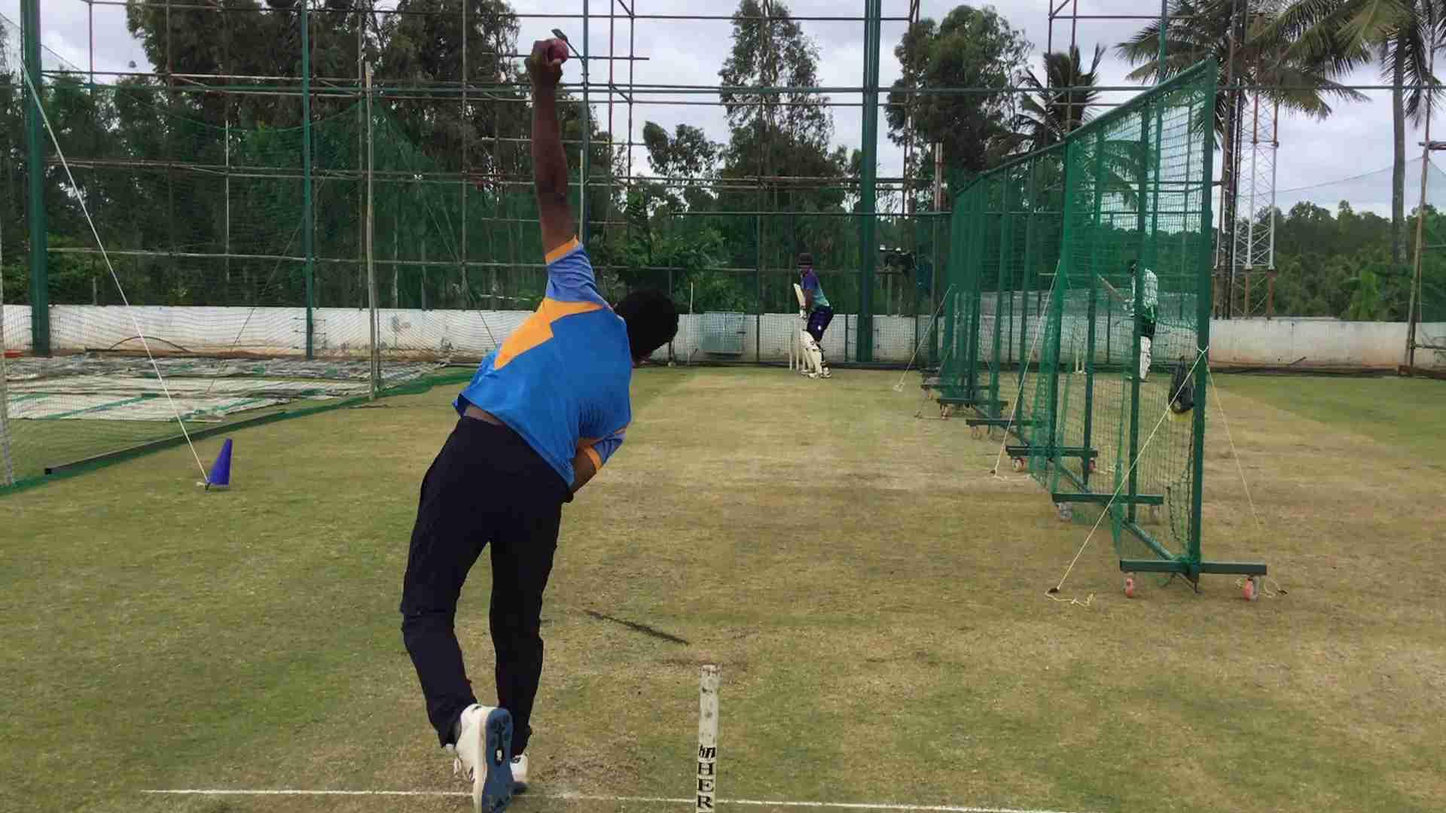batsman: (792, 244, 839, 380)
